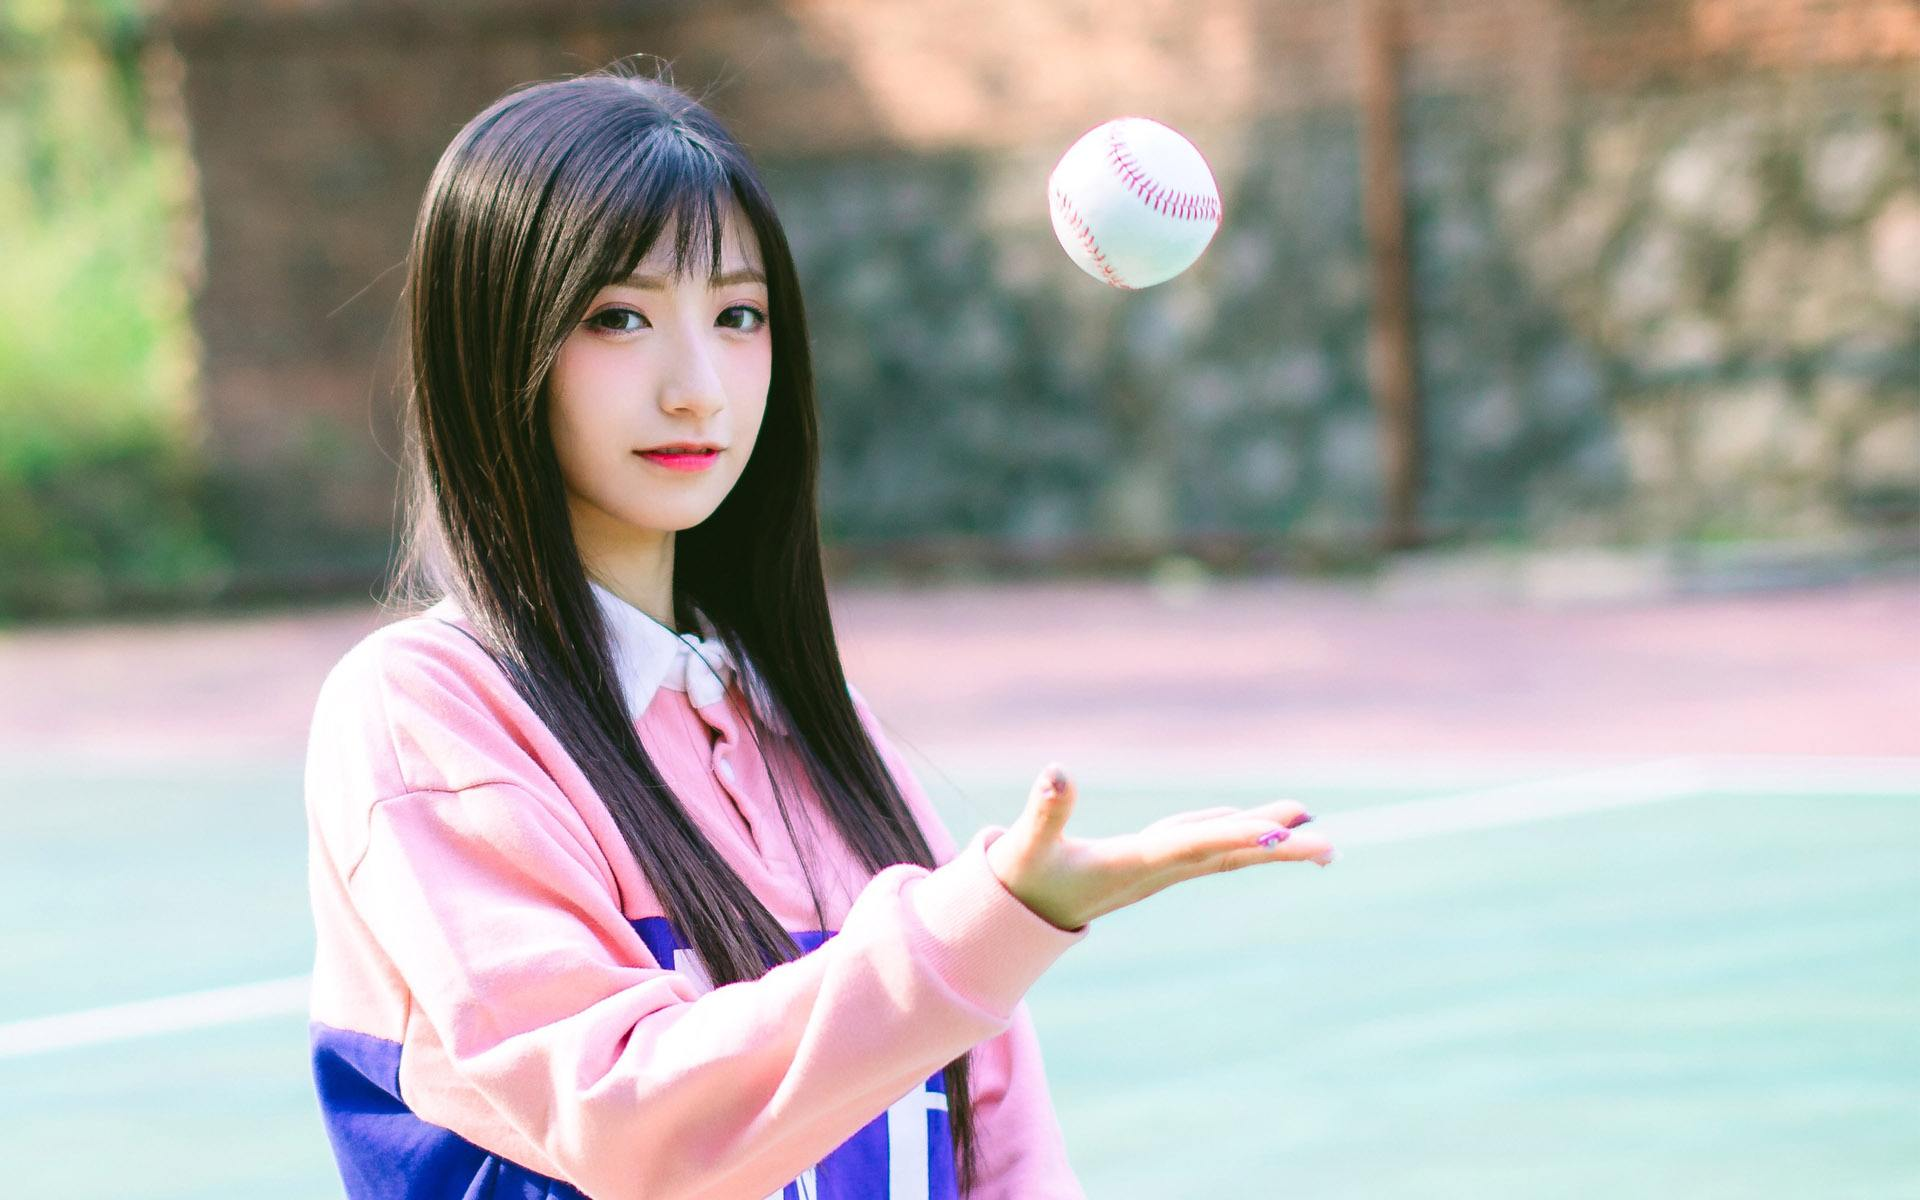person: (341, 66, 876, 841)
